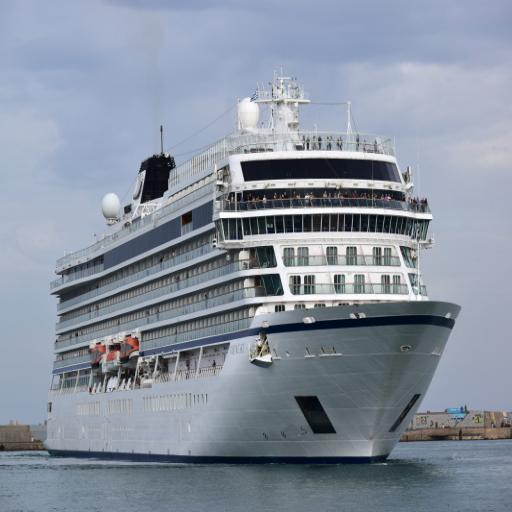cruises: (39, 71, 464, 475)
